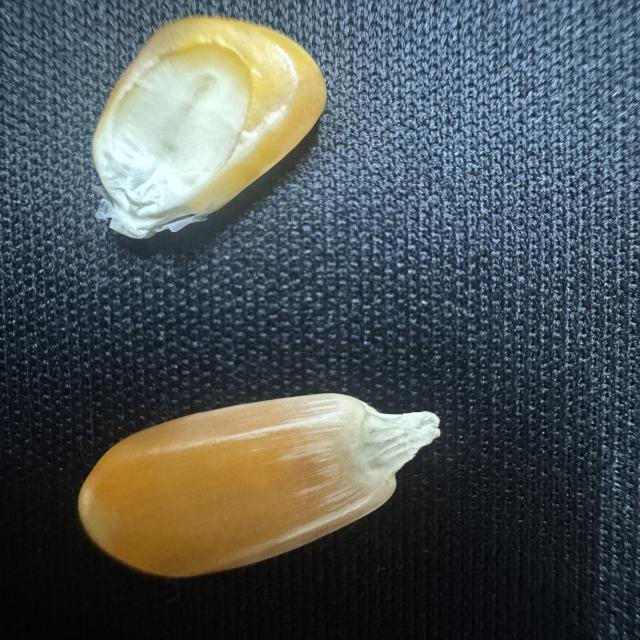Good-Seed: (60, 383, 446, 589), (85, 10, 328, 242)
